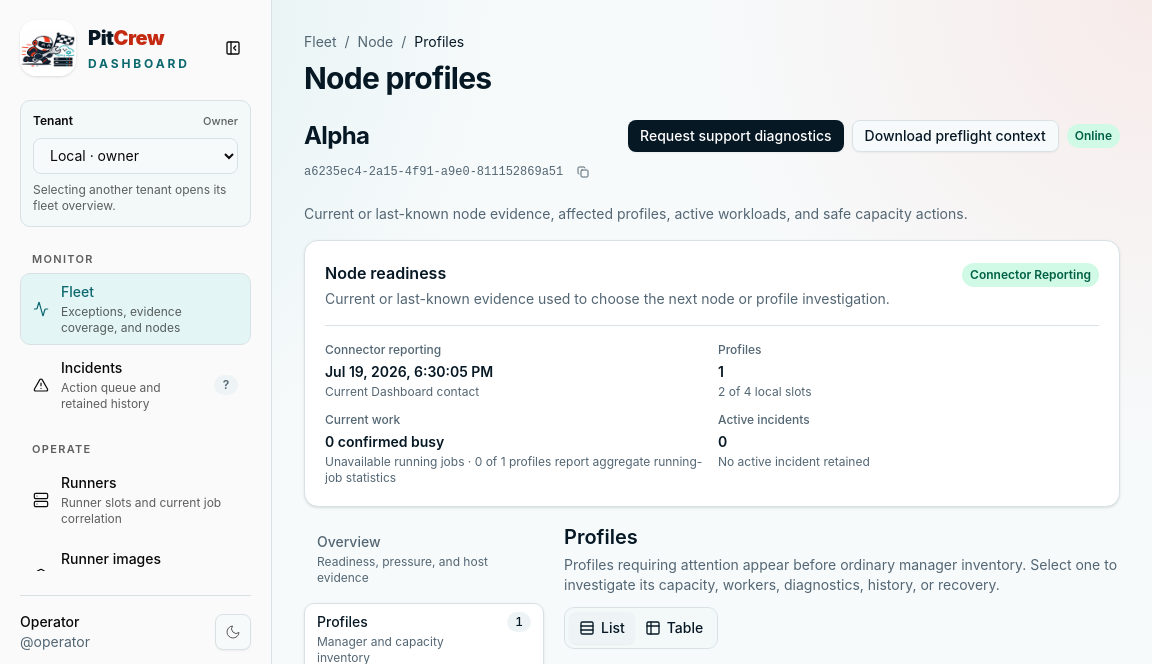
Test: fleet overview and node detail › switches between profile list and a persisted desktop comparison table
Expected: the heading "Alpha" is shown, [304,121,369,150]
Click the button "Table": (674, 628) [635,612,713,644]
(page scrolled)
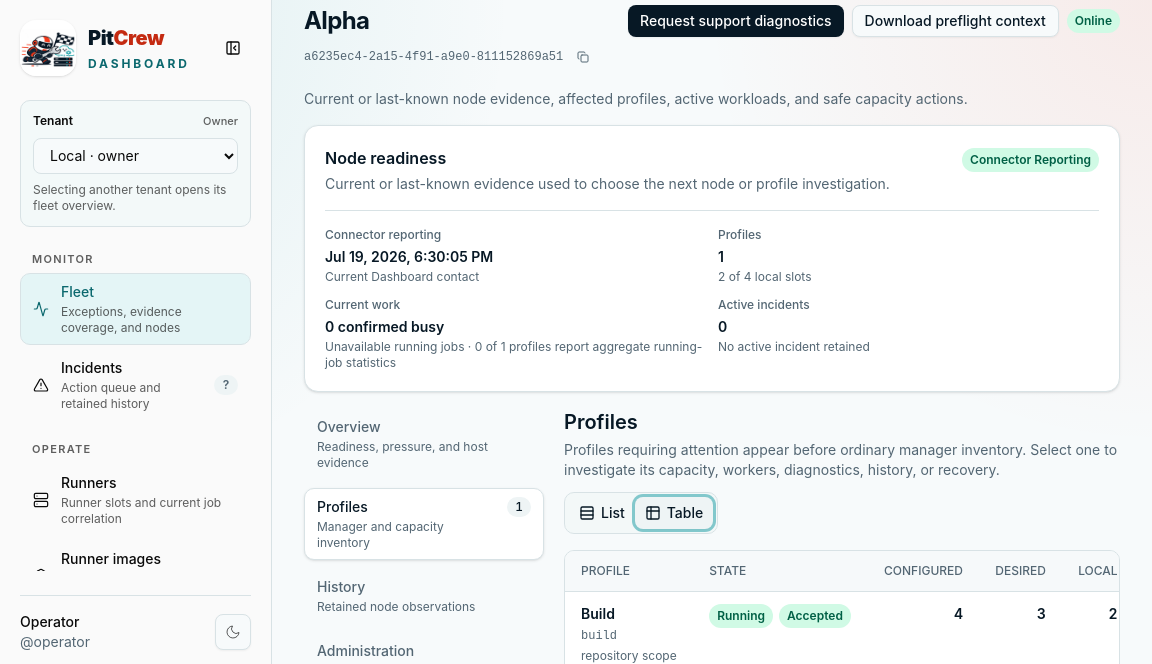
Result: the row with test id "node-profile-table-build" shows "running" at [717,608,765,623]
Result: the row with test id "node-profile-table-build" shows "accepted" at [787,608,843,623]
